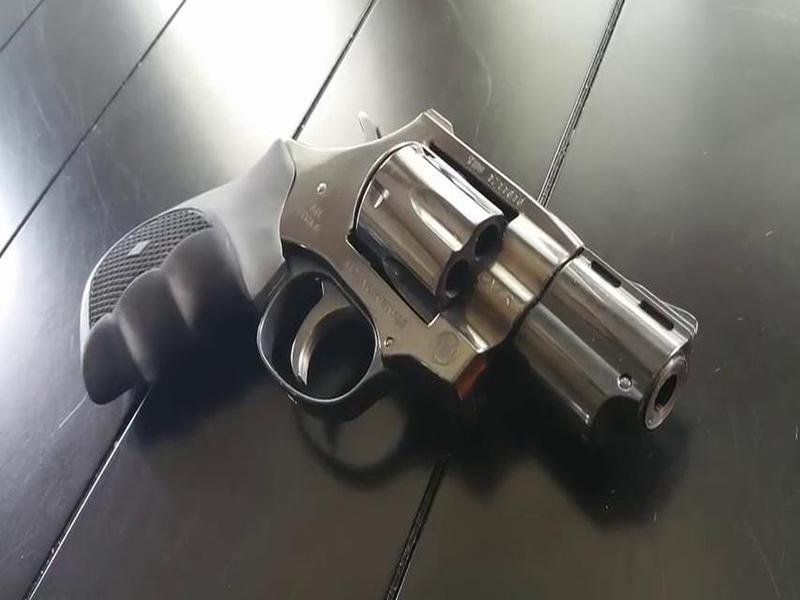Revolver: (81, 118, 688, 471)
